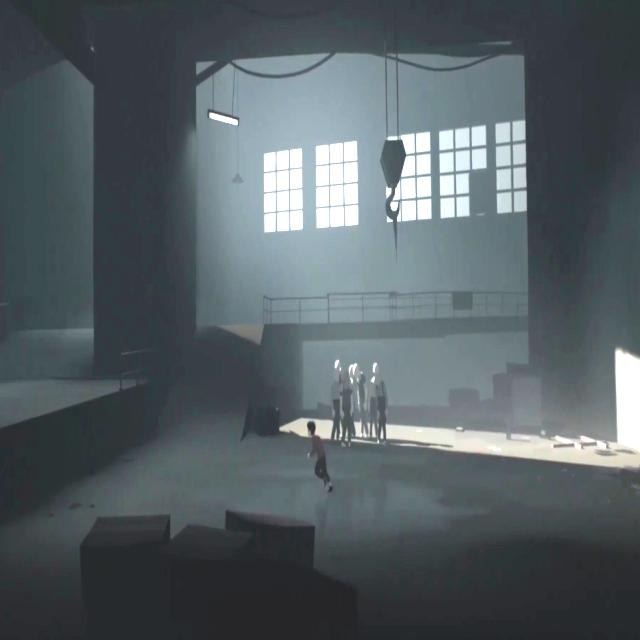boy: (306, 419, 334, 494)
zombie: (353, 363, 369, 437), (375, 374, 388, 444), (340, 371, 352, 446), (331, 360, 340, 443), (369, 362, 375, 440)
